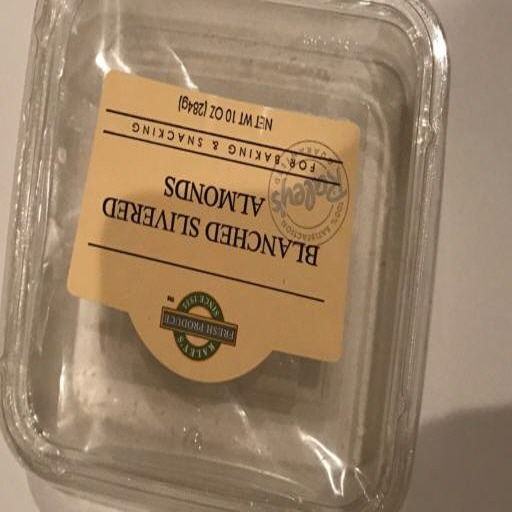Plastic_4: (2, 1, 451, 512)
